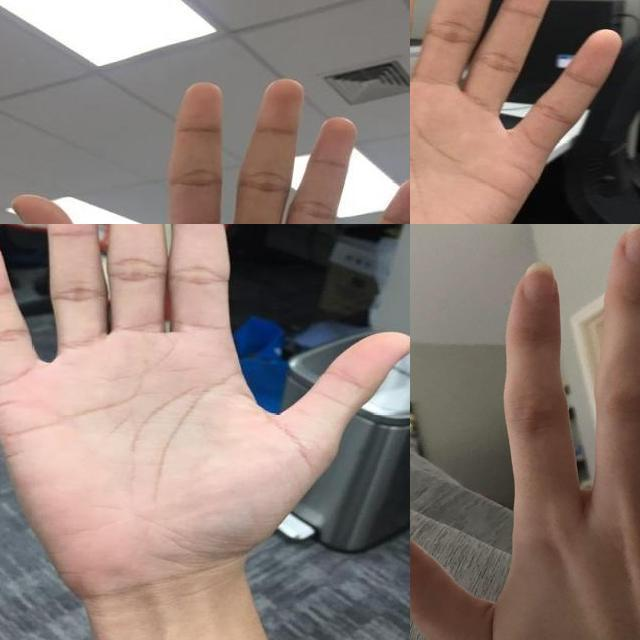hand: (0, 224, 410, 622), (410, 224, 640, 640), (9, 79, 410, 224), (410, 0, 625, 224)
